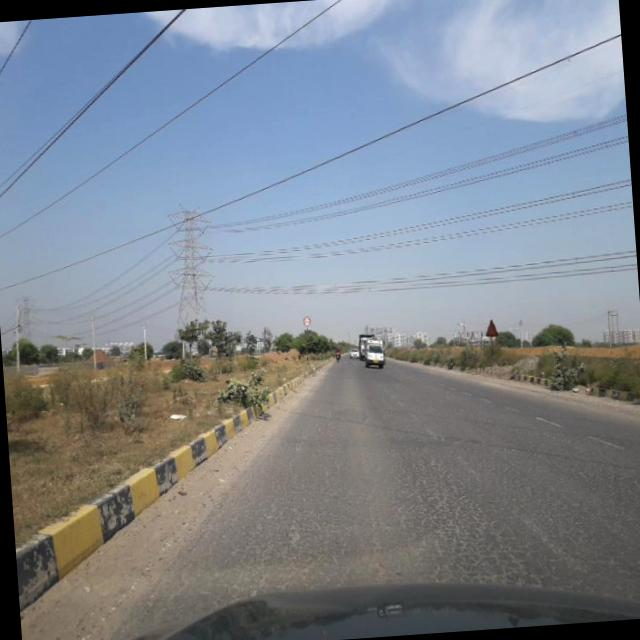crack: (169, 405, 640, 583)
